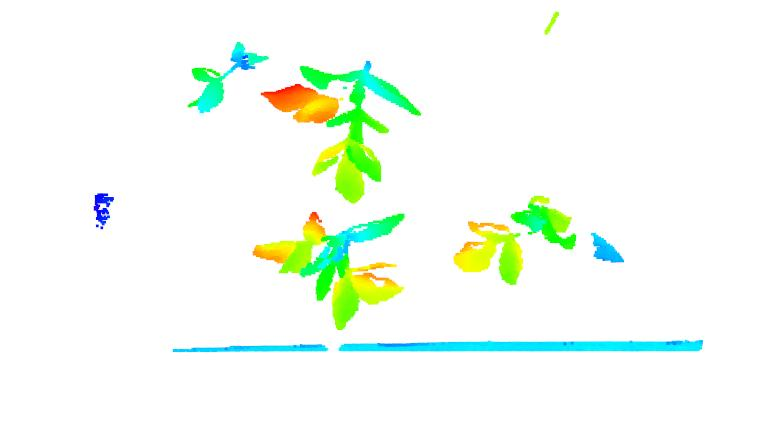mungbean: (263, 58, 430, 204), (251, 203, 417, 331), (455, 197, 629, 290), (187, 40, 272, 118)
